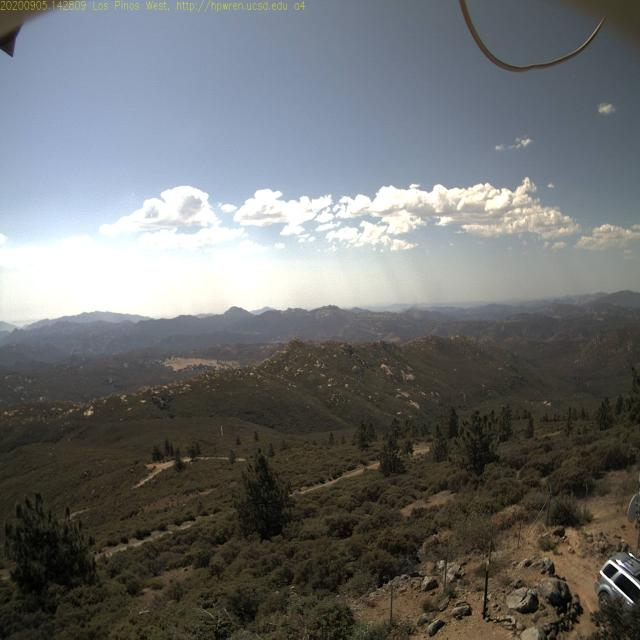smoke: (404, 294, 420, 323)
